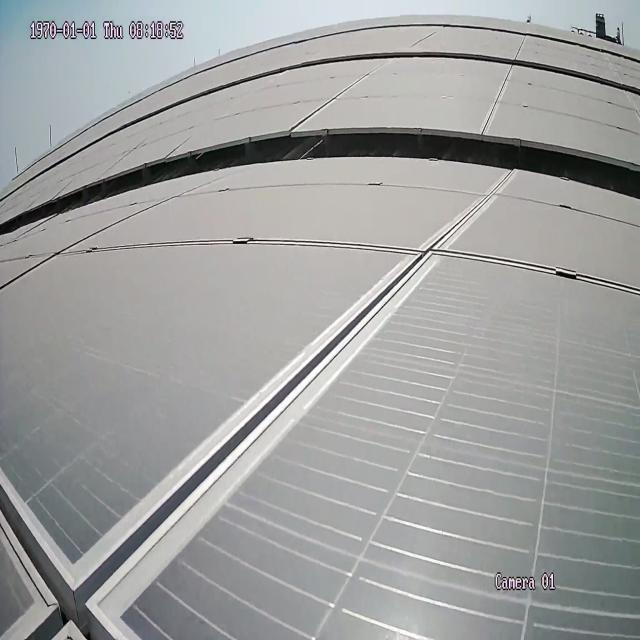interior panel: (1, 182, 510, 640), (59, 235, 411, 262), (451, 246, 620, 295), (295, 69, 374, 127), (485, 69, 512, 125)
outher panel: (0, 129, 638, 235)
